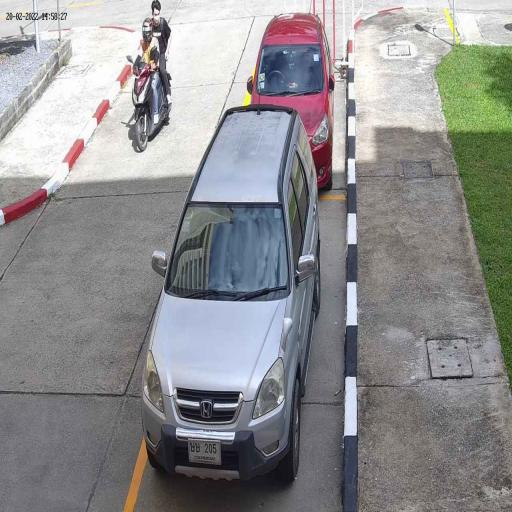car: (140, 102, 322, 494), (248, 12, 335, 186)
motorcycle: (129, 56, 172, 149)
